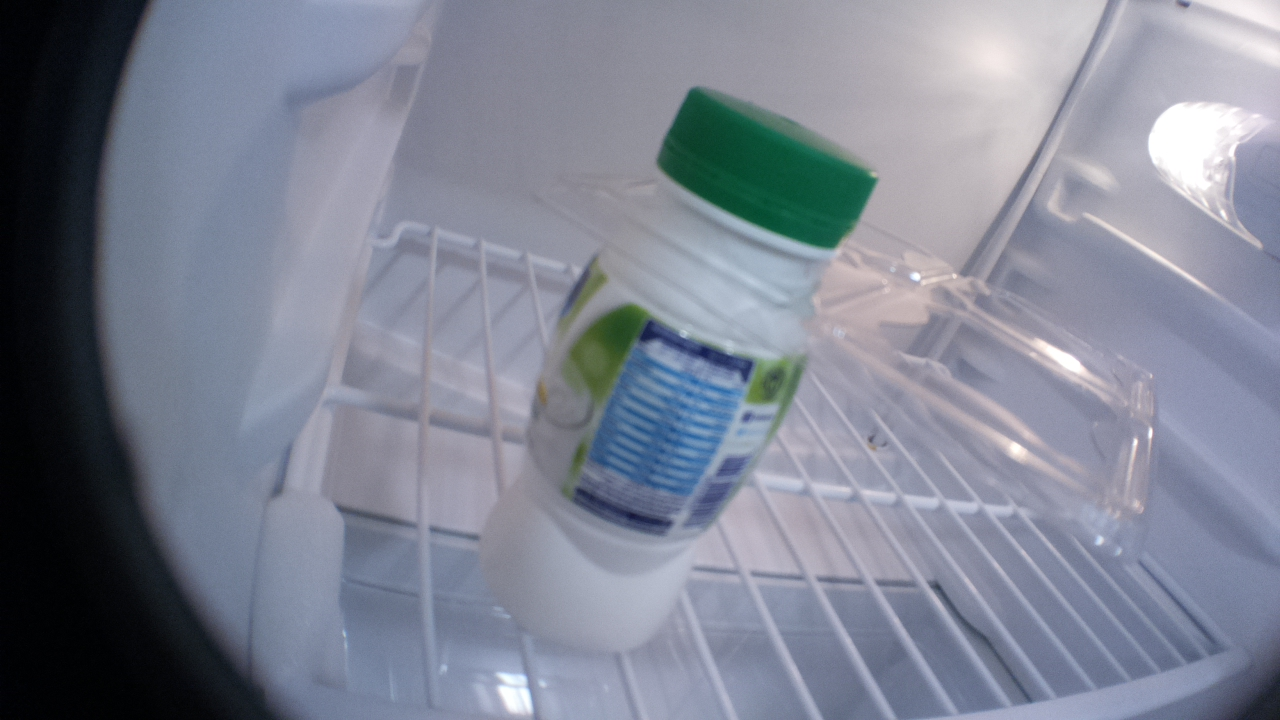laban: (471, 83, 877, 654)
